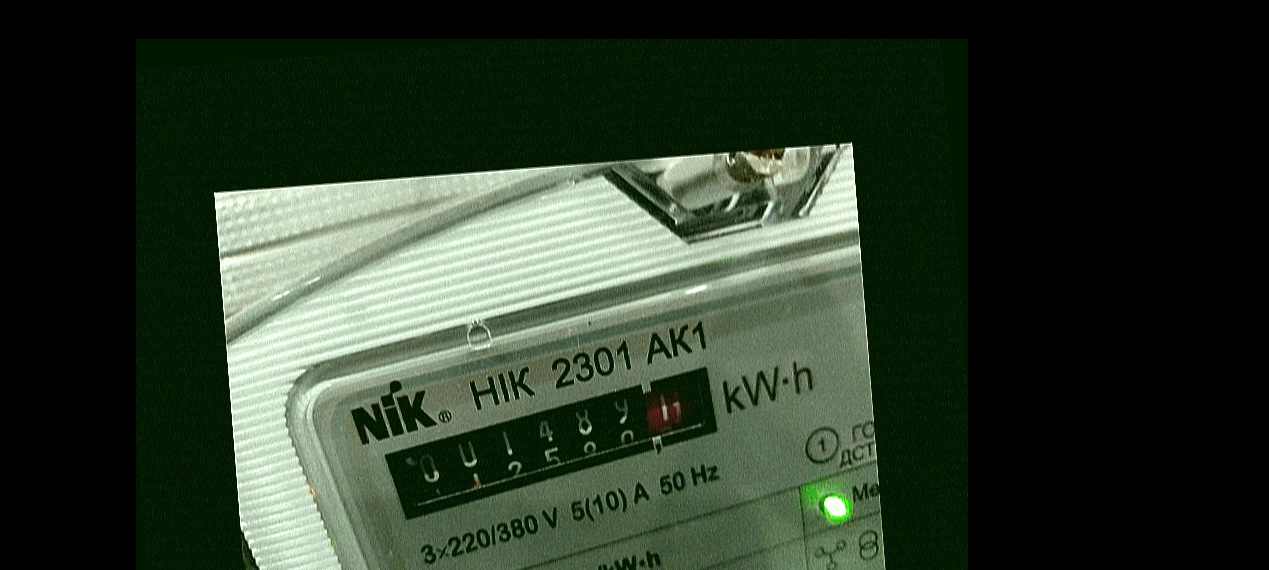0: (453, 433, 482, 471), (416, 450, 443, 487)
1: (653, 386, 675, 425), (497, 426, 519, 459)
4: (534, 413, 558, 446)
8: (573, 402, 597, 440)
9: (611, 393, 634, 427)
screen: (368, 355, 753, 534)
